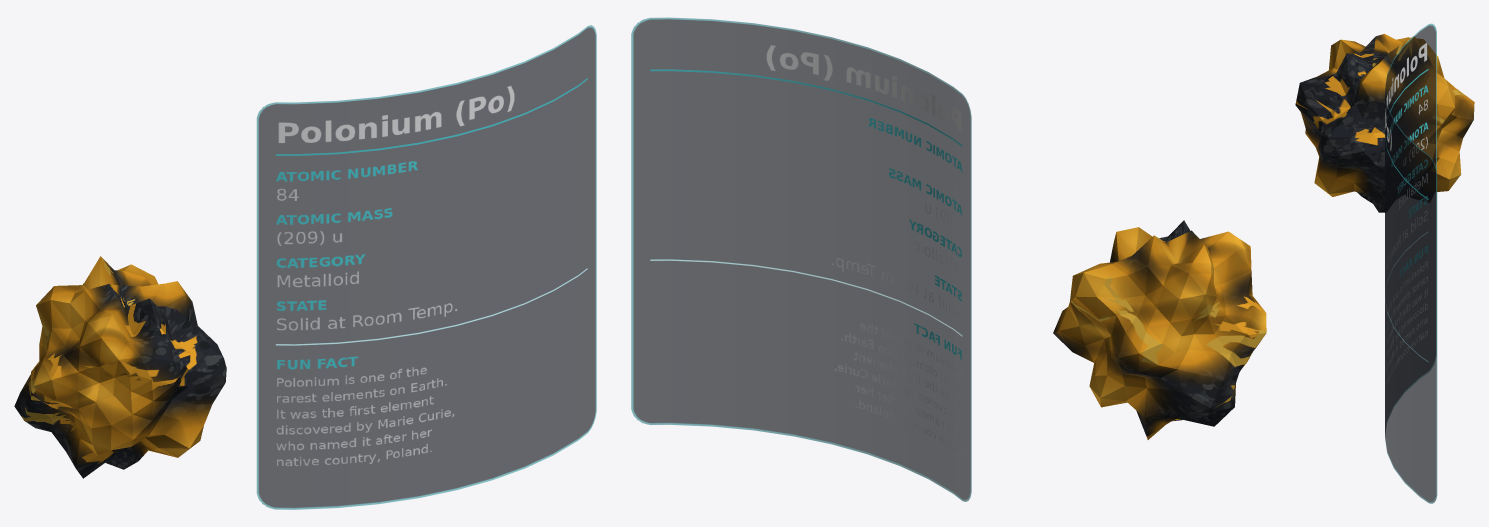
File: polonium.glb
3 renders of one model, left to right at view 1: azimuth 30°, elevation 25°; view 2: azimuth 150°, elevation 25°; view 3: azimuth 270°, elevation 25°, orthographic. The views are drawn at different scales.
Parts seen in each view (by area): view 1: info_panel, polonium_body; view 2: info_panel, polonium_body; view 3: info_panel, polonium_body.
Boxes of the visible parts, x1,y1,x2,y2 form: info_panel: [256, 25, 596, 509]; polonium_body: [14, 256, 226, 478]; info_panel: [631, 17, 971, 501]; polonium_body: [1053, 220, 1266, 439]; info_panel: [1385, 23, 1437, 503]; polonium_body: [1295, 34, 1474, 212].
Bounding box in the file's own units: 1.83 × 1.2 × 0.5498.
2 materials, 2 textured.
